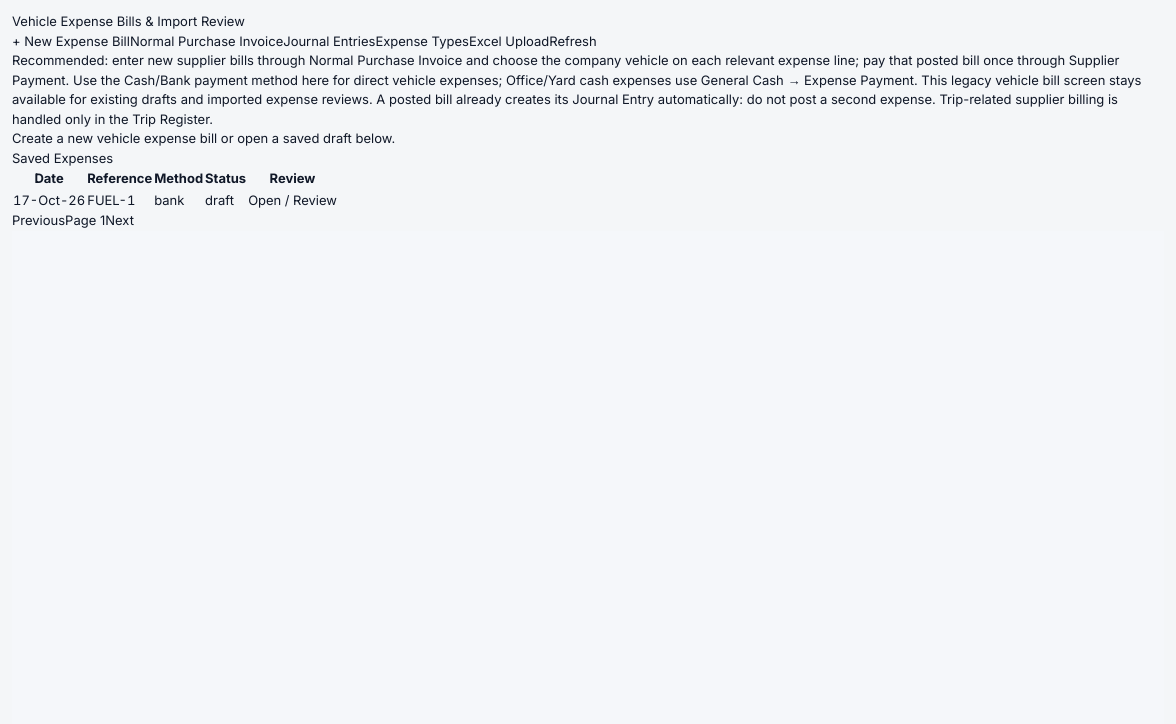
Test: Vehicle expense workflow › reviews and posts existing expense draft without duplicate posting
This screenshot has width=1176, height=724.
Expected: the heading "Vehicle Expense Bills & Import Review" is shown, x1=12 y1=13 x2=245 y2=29
Expected: the button "+ New Expense Bill" is shown, x1=12 y1=32 x2=130 y2=51
Click the button "Open / Review": (292, 200) x1=248 y1=190 x2=337 y2=210
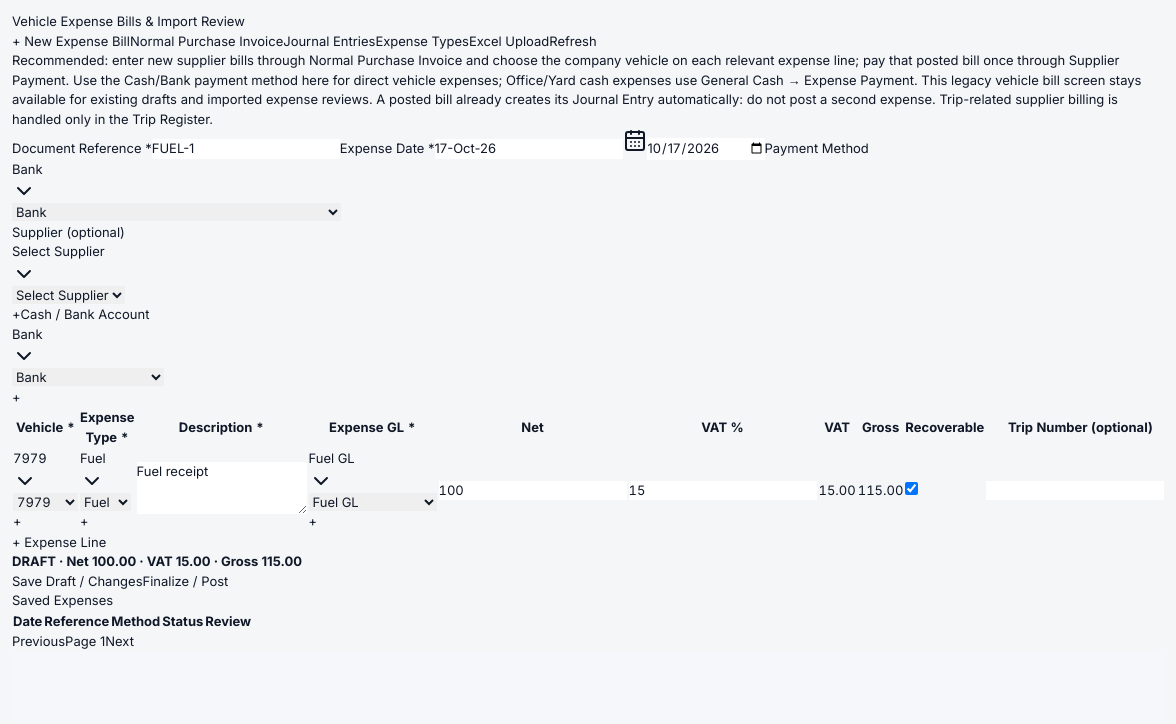
Expected: the dropdown named "Expense vehicle 1" is shown, x1=13 y1=492 x2=78 y2=510
Replace the text in the field named "Expense net 1" with "200": (532, 490) x1=438 y1=480 x2=626 y2=500
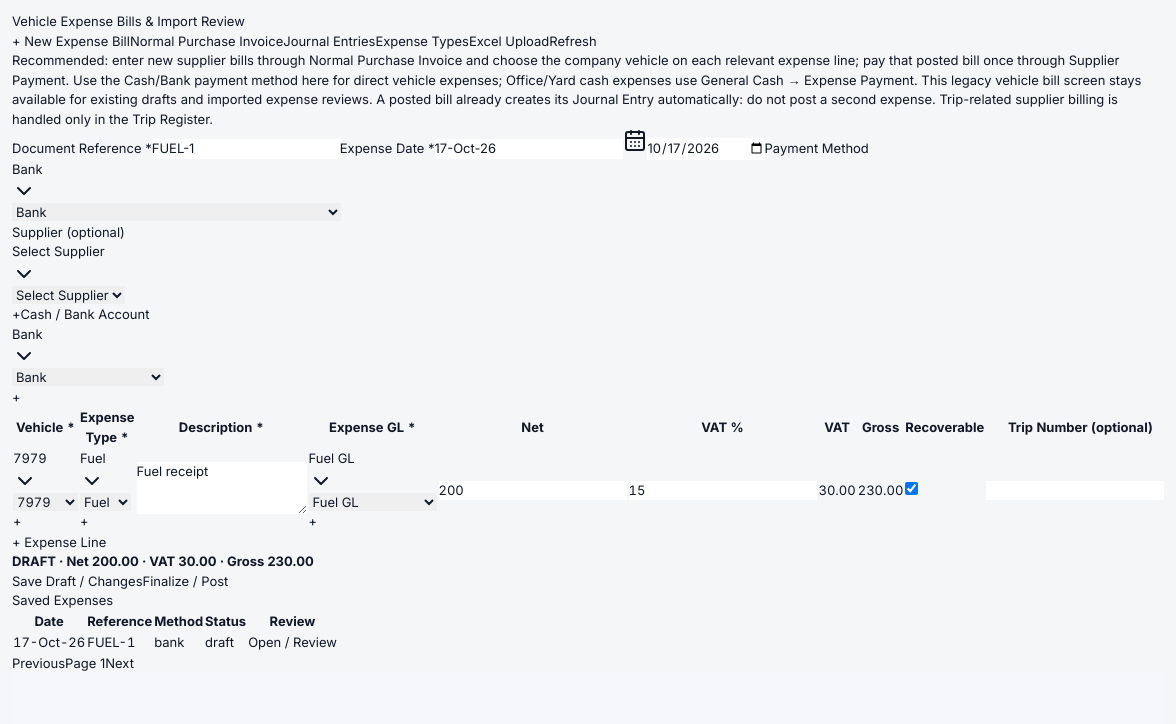
Click the button "Save Draft / Changes": (77, 581) x1=12 y1=572 x2=142 y2=591
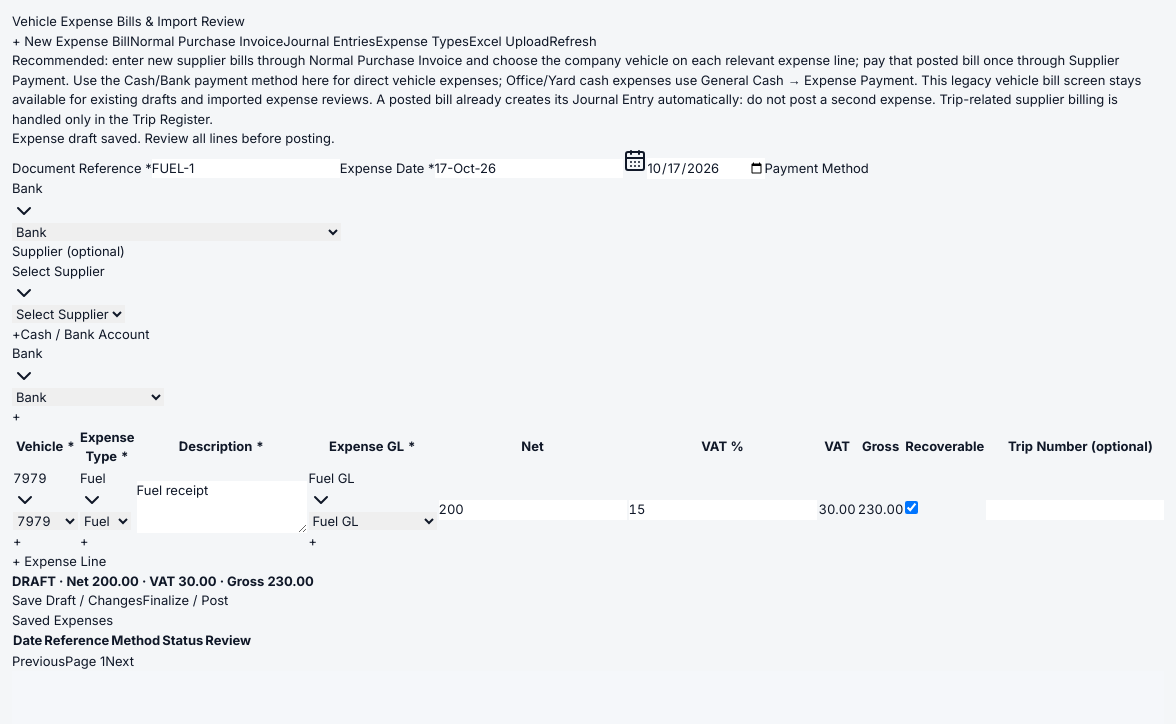
Expected: the text "Expense draft saved. Review all lines before posting." is shown, x1=12 y1=130 x2=335 y2=146
Click the button "Finalize / Post": (185, 601) x1=142 y1=591 x2=228 y2=610
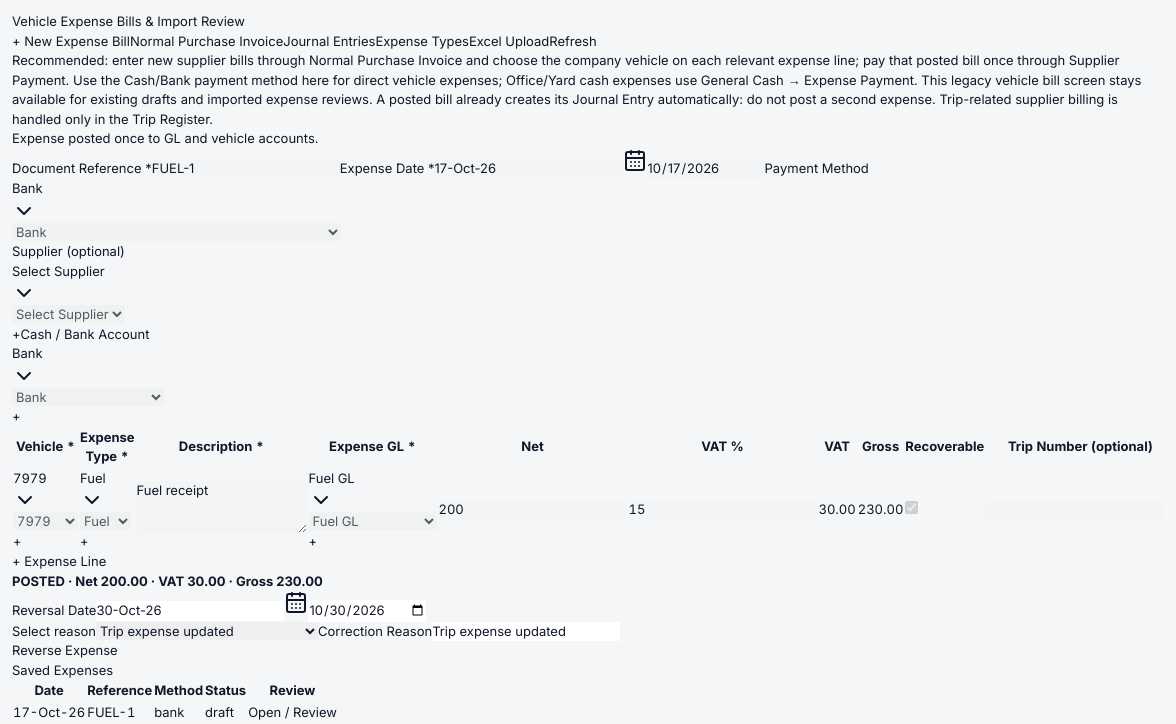
Expected: the text "Expense posted once to GL and vehicle accounts." is shown, x1=12 y1=130 x2=318 y2=146
Expected: the button "Finalize / Post" is gone
